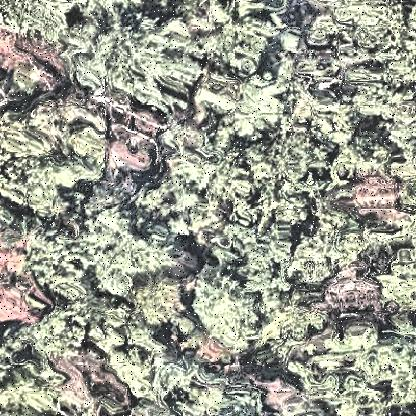tree-top: (73, 3, 207, 117), (5, 102, 105, 206), (93, 307, 187, 404), (170, 114, 258, 212), (298, 339, 416, 407), (84, 210, 172, 288), (180, 4, 282, 70), (250, 129, 330, 199), (192, 277, 262, 354), (334, 7, 413, 73), (203, 71, 282, 135), (316, 1, 413, 46), (27, 228, 87, 300), (230, 216, 299, 278), (4, 357, 68, 416), (134, 272, 190, 335), (30, 306, 92, 356), (307, 94, 360, 150), (1, 1, 77, 39), (376, 242, 416, 310)
